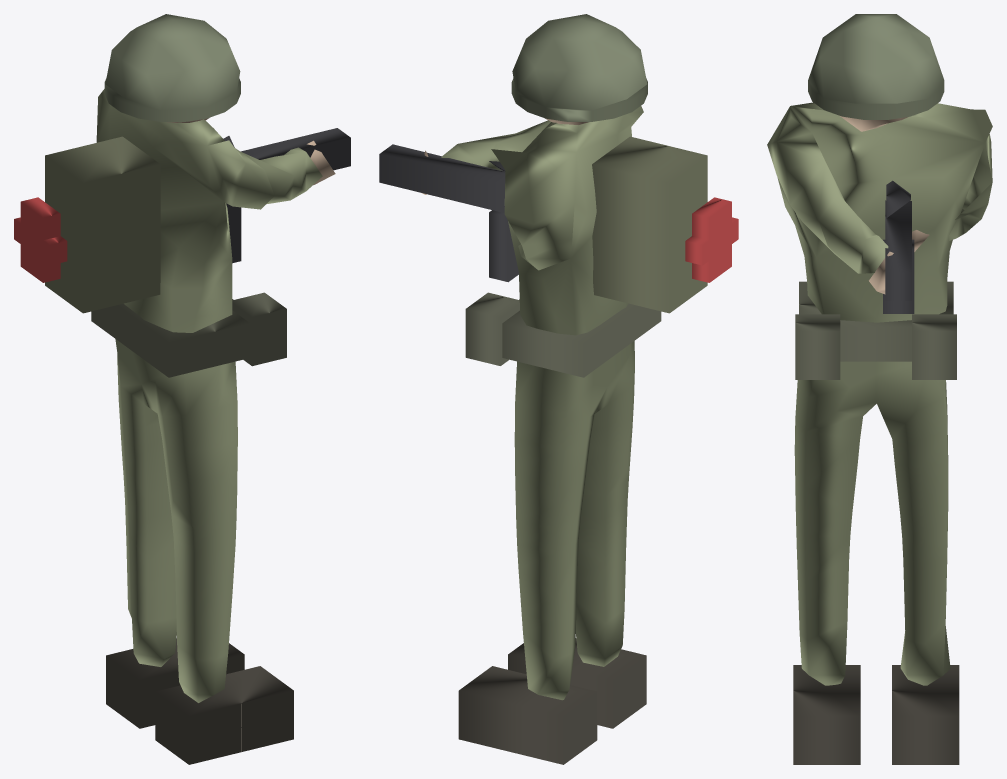
The model's file is medic.lod1.glb.
3 views of the same model, side by side, from view 1: azimuth 30°, elevation 25°; view 2: azimuth 150°, elevation 25°; view 3: azimuth 270°, elevation 25° (orthographic).
Size of the model in its own units: 0.8325 by 1.74 by 0.5033.
